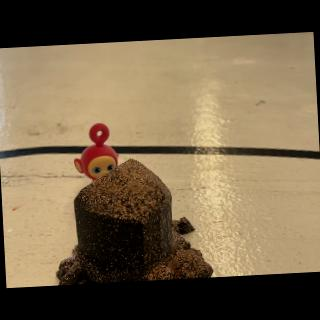teletubby: (74, 123, 119, 181)
